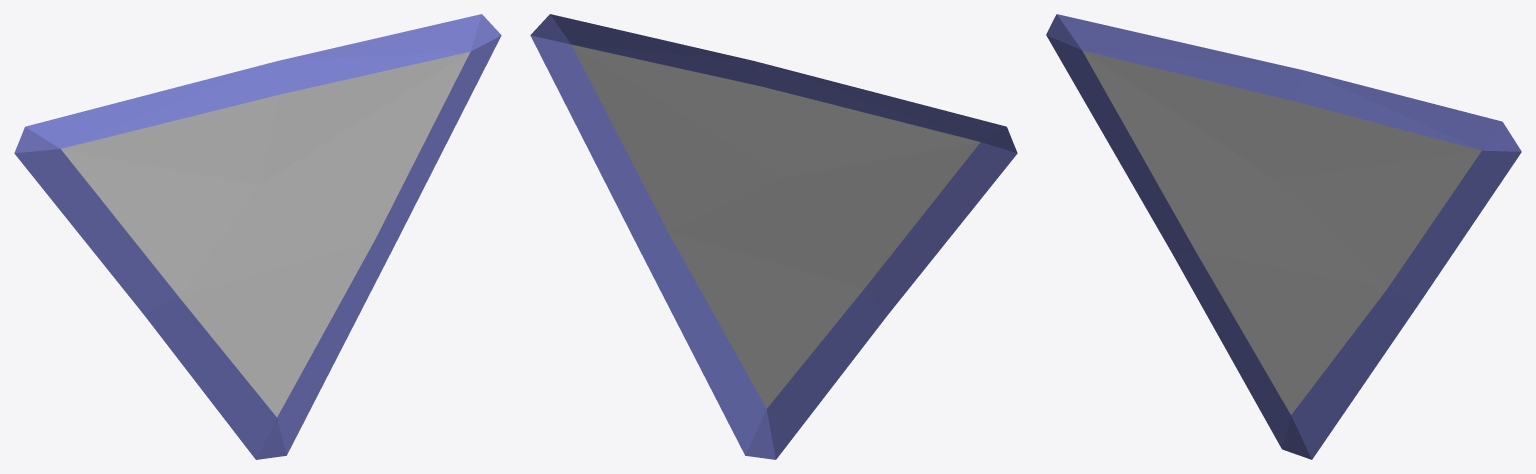
File: ui_sapienMarkerOtherTribe.glb
The picture shows the model from 3 angles, left to right: view 1: azimuth 30°, elevation 25°; view 2: azimuth 150°, elevation 25°; view 3: azimuth 330°, elevation 25°; orthographic projection. The views are drawn at different scales.
Visible parts, largest first — view 1: Cylinder; view 2: Cylinder; view 3: Cylinder.
Boxes of the visible parts, left/top/right/bottom form: Cylinder: left=14, top=14, right=501, bottom=459; Cylinder: left=530, top=14, right=1017, bottom=459; Cylinder: left=1046, top=14, right=1521, bottom=459.
Bounding box in the file's own units: 2.65 × 2.06 × 0.0556.
